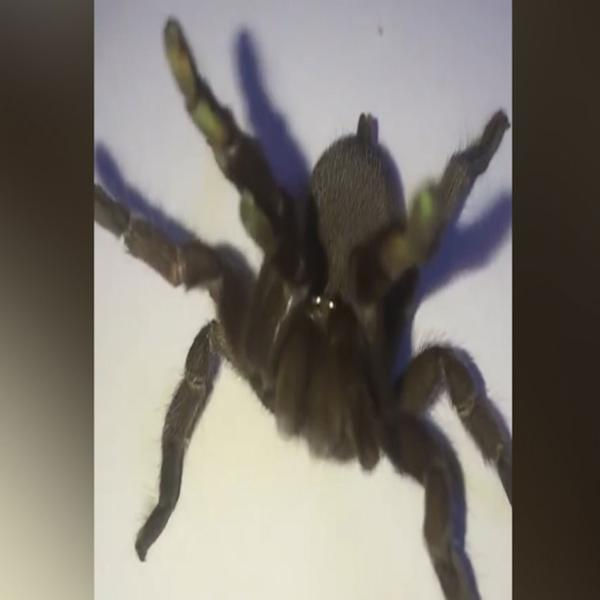Tarantula Spider: (132, 20, 505, 591)
